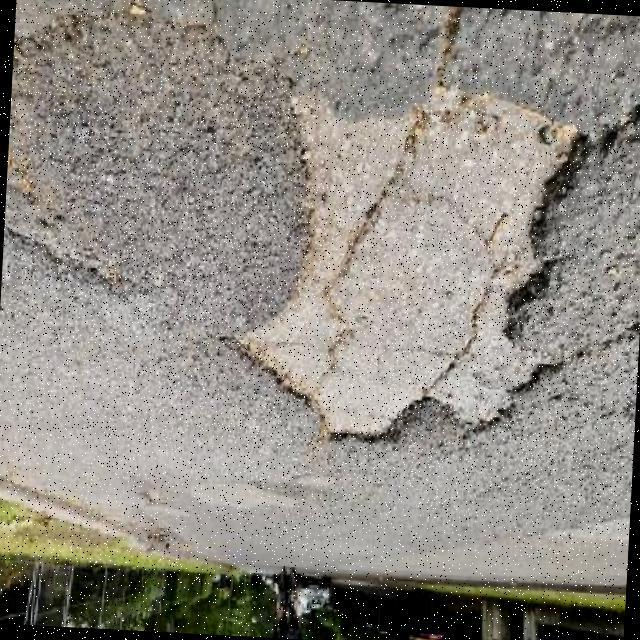Pothole: (233, 83, 575, 435)
